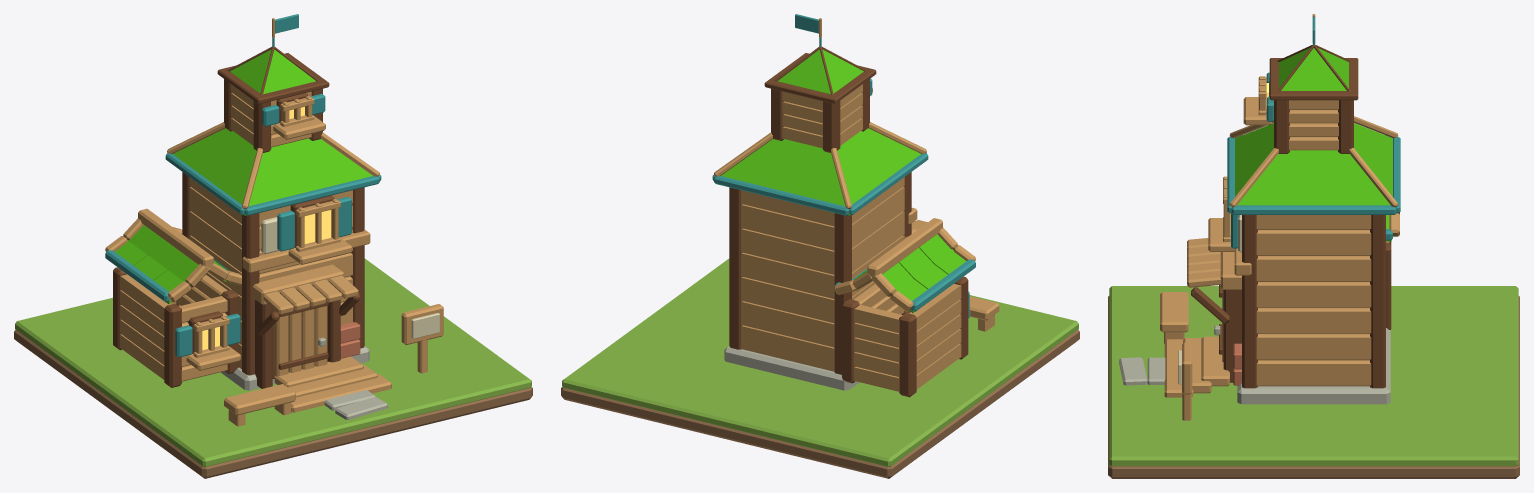
Rendered from town_hall_l04_active_LOD0.glb.
The picture shows the model from 3 angles, left to right: view 1: azimuth 30°, elevation 25°; view 2: azimuth 150°, elevation 25°; view 3: azimuth 270°, elevation 25°; orthographic projection. The views are drawn at different scales.
Parts seen in each view (by area): view 1: town_hall_l04_active_grass_tile, town_hall_l04_active_earth_tile, town_hall_l04_active_hip_roof_shingle.002, town_hall_l04_active_hip_roof_shingle.011, town_hall_l04_active_corner_reinforcement, town_hall_l04_active_central_spire_roof_shingle, town_hall_l04_active_hip_roof_shingle.001, town_hall_l04_active_corner_reinforcement.002, town_hall_l04_active_bench_seat, town_hall_l04_active_ridge_cap.004, town_hall_l04_active_central_spire_cornice, town_hall_l04_active_eave_trim (+38 smaller); view 2: town_hall_l04_active_grass_tile, town_hall_l04_active_earth_tile, town_hall_l04_active_hip_roof_shingle.008, town_hall_l04_active_wall_siding.017, town_hall_l04_active_wall_siding.021, town_hall_l04_active_wall_siding.005, town_hall_l04_active_wall_siding.009, town_hall_l04_active_wall_siding.013, town_hall_l04_active_wall_siding.001, town_hall_l04_active_hip_roof_shingle.011, town_hall_l04_active_foundation, town_hall_l04_active_central_spire_roof_shingle (+29 smaller); view 3: town_hall_l04_active_grass_tile, town_hall_l04_active_earth_tile, town_hall_l04_active_hip_roof_shingle.005, town_hall_l04_active_foundation, town_hall_l04_active_wall_siding.007, town_hall_l04_active_wall_siding.003, town_hall_l04_active_wall_siding.011, town_hall_l04_active_wall_siding.015, town_hall_l04_active_wall_siding.019, town_hall_l04_active_wall_siding.023, town_hall_l04_active_corner_reinforcement.003, town_hall_l04_active_corner_reinforcement.002 (+33 smaller).
Part boxes in pixels (bbox=[...]): town_hall_l04_active_grass_tile: bbox=[15, 258, 531, 466]; town_hall_l04_active_earth_tile: bbox=[14, 329, 532, 478]; town_hall_l04_active_hip_roof_shingle.002: bbox=[244, 154, 372, 215]; town_hall_l04_active_hip_roof_shingle.011: bbox=[173, 139, 250, 215]; town_hall_l04_active_corner_reinforcement: bbox=[242, 213, 259, 375]; town_hall_l04_active_central_spire_roof_shingle: bbox=[230, 49, 315, 94]; town_hall_l04_active_hip_roof_shingle.001: bbox=[257, 138, 342, 175]; town_hall_l04_active_corner_reinforcement.002: bbox=[350, 187, 364, 348]; town_hall_l04_active_bench_seat: bbox=[224, 384, 295, 415]; town_hall_l04_active_ridge_cap.004: bbox=[138, 208, 213, 267]; town_hall_l04_active_central_spire_cornice: bbox=[217, 53, 329, 103]; town_hall_l04_active_eave_trim: bbox=[244, 176, 379, 215]; town_hall_l04_active_grass_tile: bbox=[562, 258, 1078, 466]; town_hall_l04_active_earth_tile: bbox=[561, 329, 1079, 478]; town_hall_l04_active_hip_roof_shingle.008: bbox=[721, 154, 849, 215]; town_hall_l04_active_wall_siding.017: bbox=[741, 228, 834, 274]; town_hall_l04_active_wall_siding.021: bbox=[741, 204, 834, 250]; town_hall_l04_active_wall_siding.005: bbox=[741, 301, 834, 347]; town_hall_l04_active_wall_siding.009: bbox=[741, 277, 834, 323]; town_hall_l04_active_wall_siding.013: bbox=[741, 252, 834, 298]; town_hall_l04_active_wall_siding.001: bbox=[741, 325, 834, 371]; town_hall_l04_active_hip_roof_shingle.011: bbox=[843, 139, 920, 215]; town_hall_l04_active_foundation: bbox=[724, 346, 859, 390]; town_hall_l04_active_central_spire_roof_shingle: bbox=[778, 49, 863, 94]; town_hall_l04_active_grass_tile: bbox=[1109, 286, 1518, 466]; town_hall_l04_active_earth_tile: bbox=[1108, 296, 1519, 478]; town_hall_l04_active_hip_roof_shingle.005: bbox=[1231, 176, 1396, 214]; town_hall_l04_active_foundation: bbox=[1237, 328, 1390, 404]; town_hall_l04_active_wall_siding.007: bbox=[1256, 334, 1371, 360]; town_hall_l04_active_wall_siding.003: bbox=[1256, 360, 1371, 386]; town_hall_l04_active_wall_siding.011: bbox=[1256, 308, 1371, 333]; town_hall_l04_active_wall_siding.015: bbox=[1256, 282, 1371, 307]; town_hall_l04_active_wall_siding.019: bbox=[1256, 256, 1371, 281]; town_hall_l04_active_wall_siding.023: bbox=[1256, 230, 1371, 255]; town_hall_l04_active_corner_reinforcement.003: bbox=[1370, 215, 1385, 388]; town_hall_l04_active_corner_reinforcement.002: bbox=[1242, 215, 1257, 388].
Bounding box in the file's own units: 3.6 × 3.66 × 3.6.
